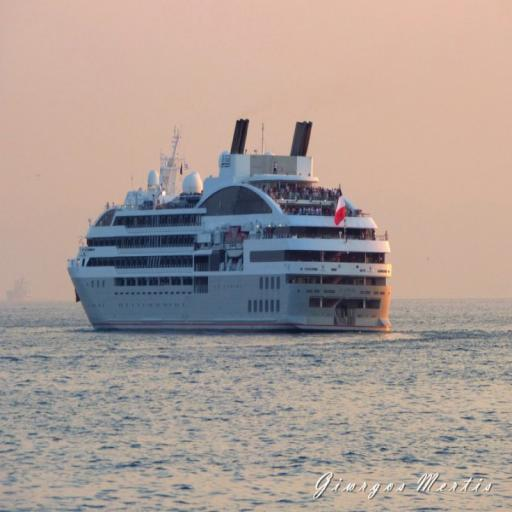cruises: (63, 116, 397, 339)
